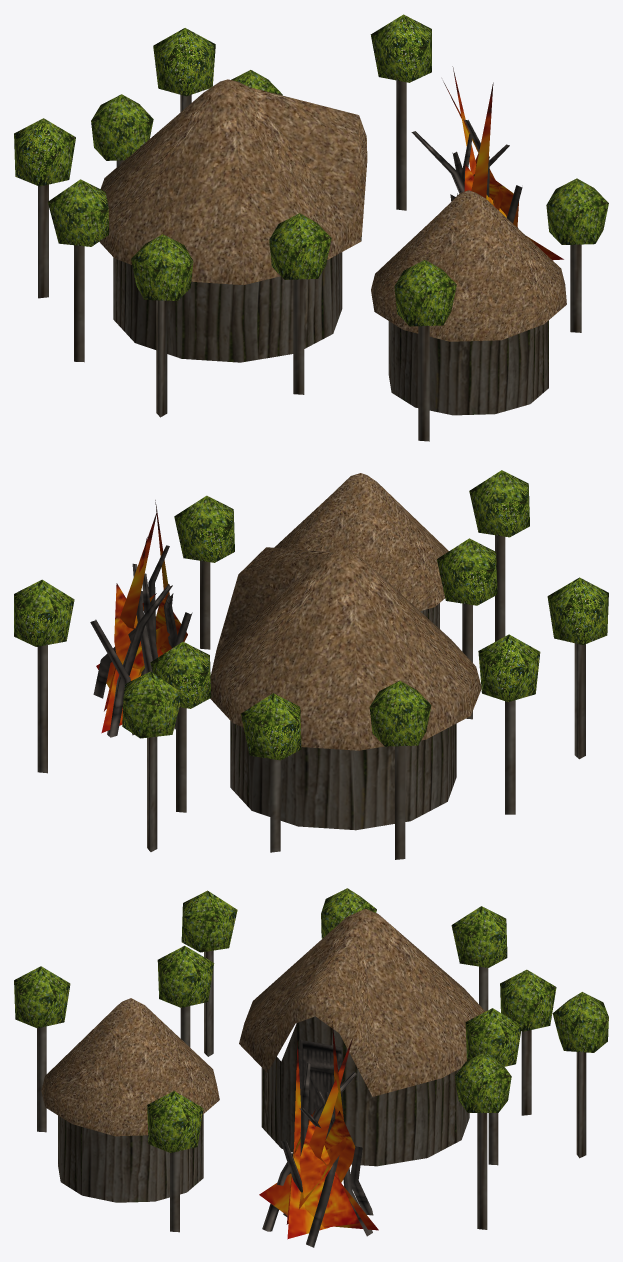
Rendered from Hut.glb.
3 renders of one model, top to bottom at view 1: azimuth 30°, elevation 25°; view 2: azimuth 150°, elevation 25°; view 3: azimuth 270°, elevation 25°, orthographic. The views are drawn at different scales.
Parts seen in each view (by area): view 1: Cube.062; view 2: Cube.062; view 3: Cube.062.
Part boxes in pixels (box(x1,y1,x2,y2)): Cube.062: box(14, 14, 608, 441); Cube.062: box(14, 470, 608, 859); Cube.062: box(14, 888, 608, 1247).
Bounding box in the file's own units: 2.32 × 1.14 × 2.76.
1 material, 1 textured.
